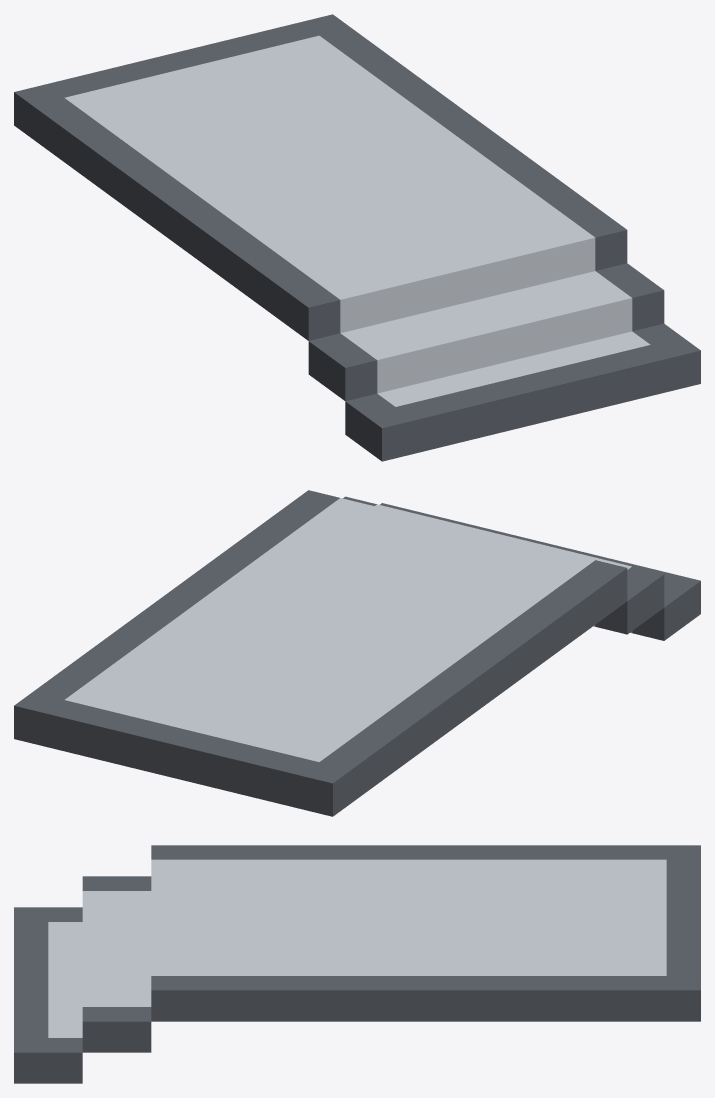
The model's file is top-dispenser.obj.
The picture shows the model from 3 angles, top to bottom: view 1: azimuth 30°, elevation 25°; view 2: azimuth 150°, elevation 25°; view 3: azimuth 270°, elevation 25°; orthographic projection. The views are drawn at different scales.
Bounding box in the file's own units: 1 × 0.3 × 2.
Materials: 1 (1 with a texture image).
